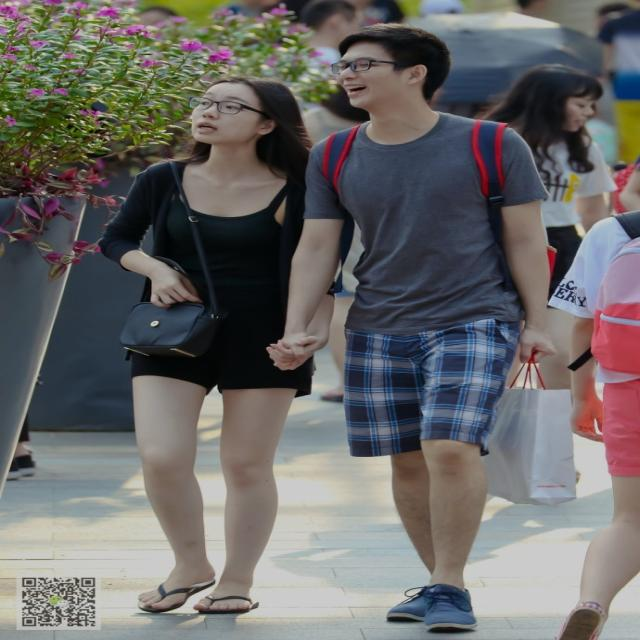non-fight: (266, 21, 551, 640), (98, 77, 319, 614)
